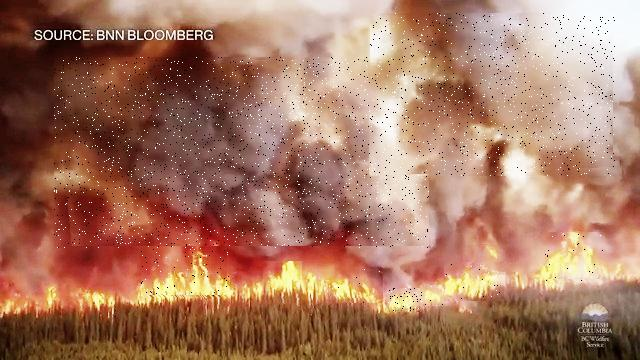fire: (142, 247, 230, 298), (546, 233, 607, 282), (445, 262, 504, 301), (327, 267, 383, 303), (263, 262, 302, 303), (388, 288, 423, 312), (423, 282, 452, 306)
smoke: (55, 58, 432, 249), (371, 13, 616, 176)
